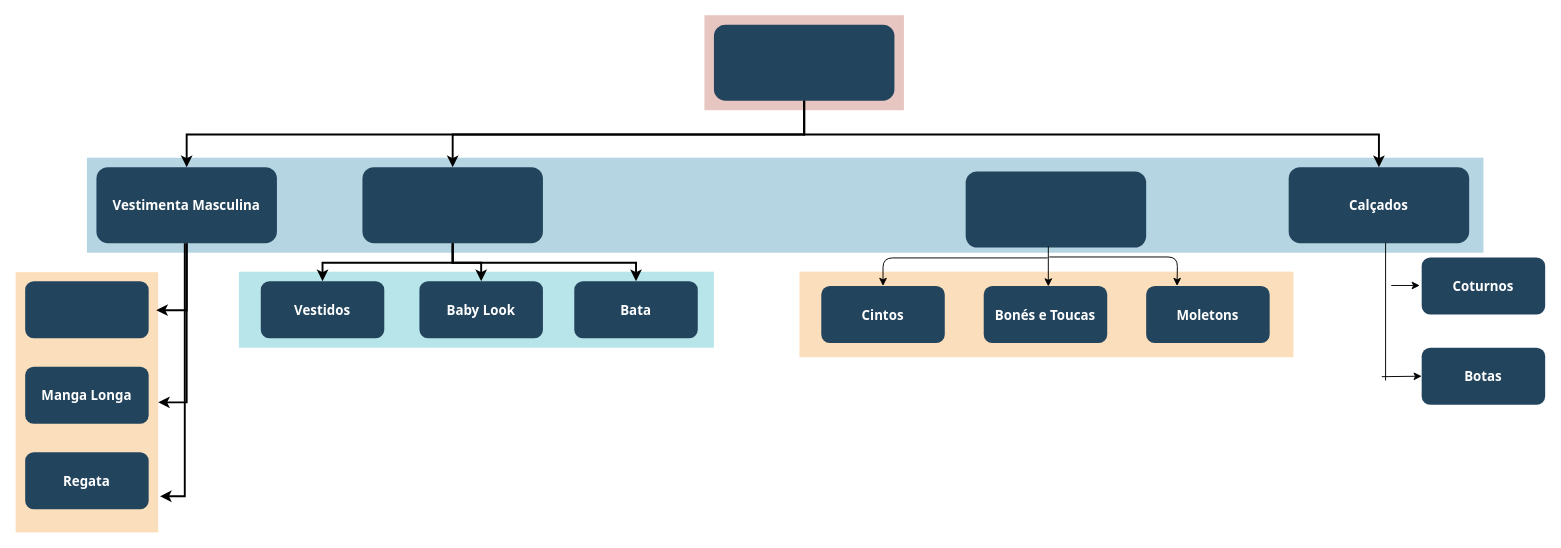
Some shapes in this 1561 by 548 pixel diagram are drawn without their labels. Each missing label, with the box of its shape:
Acessórios: (965, 171, 1146, 247)
Manga Curta: (25, 281, 148, 338)
Página Inicial: (713, 24, 894, 100)
Vestimenta Feminina: (362, 167, 542, 243)
